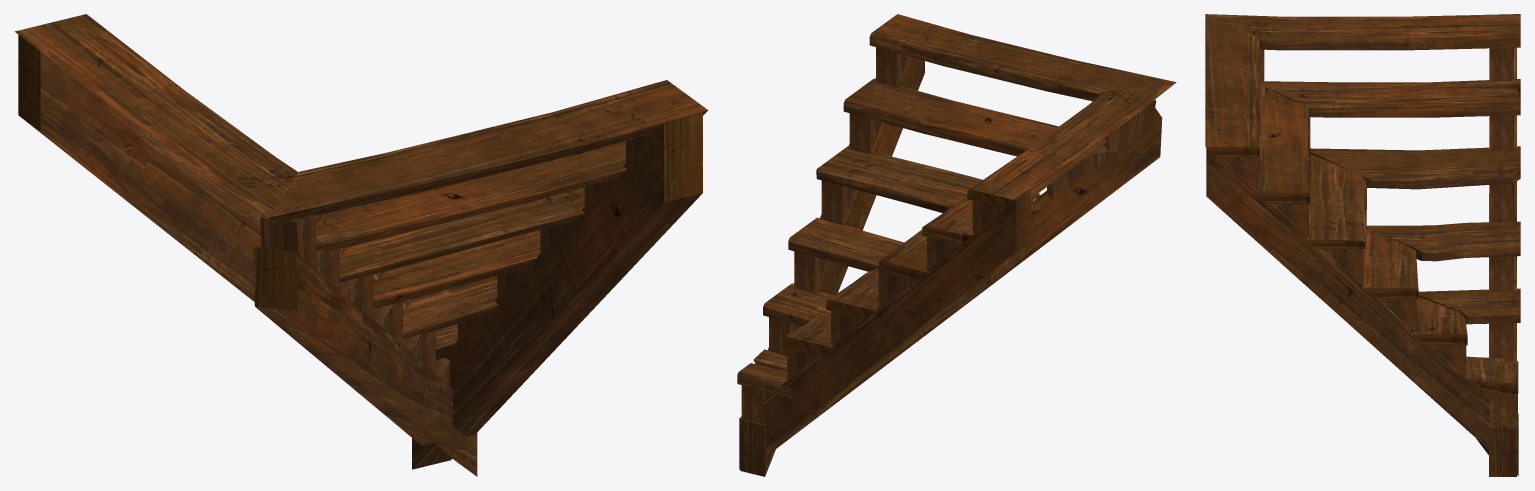
3 views of the same model, side by side, from view 1: azimuth 30°, elevation 25°; view 2: azimuth 150°, elevation 25°; view 3: azimuth 270°, elevation 25° (orthographic). The views are drawn at different scales.
Parts seen in each view (by area): view 1: SM_BB_T2_Stairs_InnerCorner_LOD0; view 2: SM_BB_T2_Stairs_InnerCorner_LOD0; view 3: SM_BB_T2_Stairs_InnerCorner_LOD0.
Boxes of the visible parts, x1,y1,x2,y2 form: SM_BB_T2_Stairs_InnerCorner_LOD0: (14, 14, 708, 476); SM_BB_T2_Stairs_InnerCorner_LOD0: (737, 14, 1176, 476); SM_BB_T2_Stairs_InnerCorner_LOD0: (1205, 14, 1520, 476).
Size of the model in its own units: 1.52 by 1.76 by 1.52.
1 material, 1 textured.
